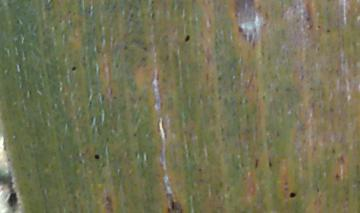tarspot: (7, 191, 20, 209), (92, 152, 101, 161), (287, 191, 297, 199), (69, 64, 78, 72), (170, 199, 176, 211), (253, 157, 259, 169), (333, 170, 340, 180), (183, 33, 189, 44), (236, 24, 243, 33), (267, 157, 272, 168), (120, 44, 128, 50), (113, 61, 119, 69), (131, 131, 137, 138), (325, 28, 329, 35)
